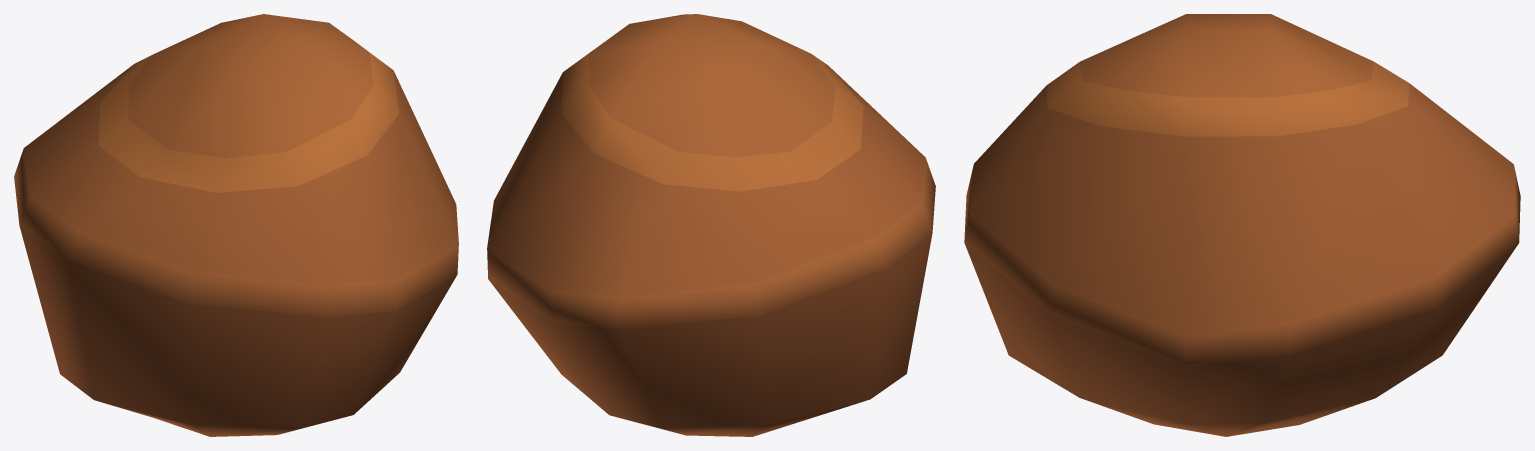
File: bronze_ore_L.fbx
3 renders of one model, left to right at view 1: azimuth 30°, elevation 25°; view 2: azimuth 150°, elevation 25°; view 3: azimuth 270°, elevation 25°, orthographic. The views are drawn at different scales.
Visible parts, largest first — view 1: bronze_ore_L; view 2: bronze_ore_L; view 3: bronze_ore_L.
Part boxes in pixels (<box>): bronze_ore_L: <box>14,14,458,436</box>; bronze_ore_L: <box>487,14,935,436</box>; bronze_ore_L: <box>964,14,1520,436</box>.
Bounding box in the file's own units: 57.57 × 50.51 × 64.42.
1 material, 1 textured.
